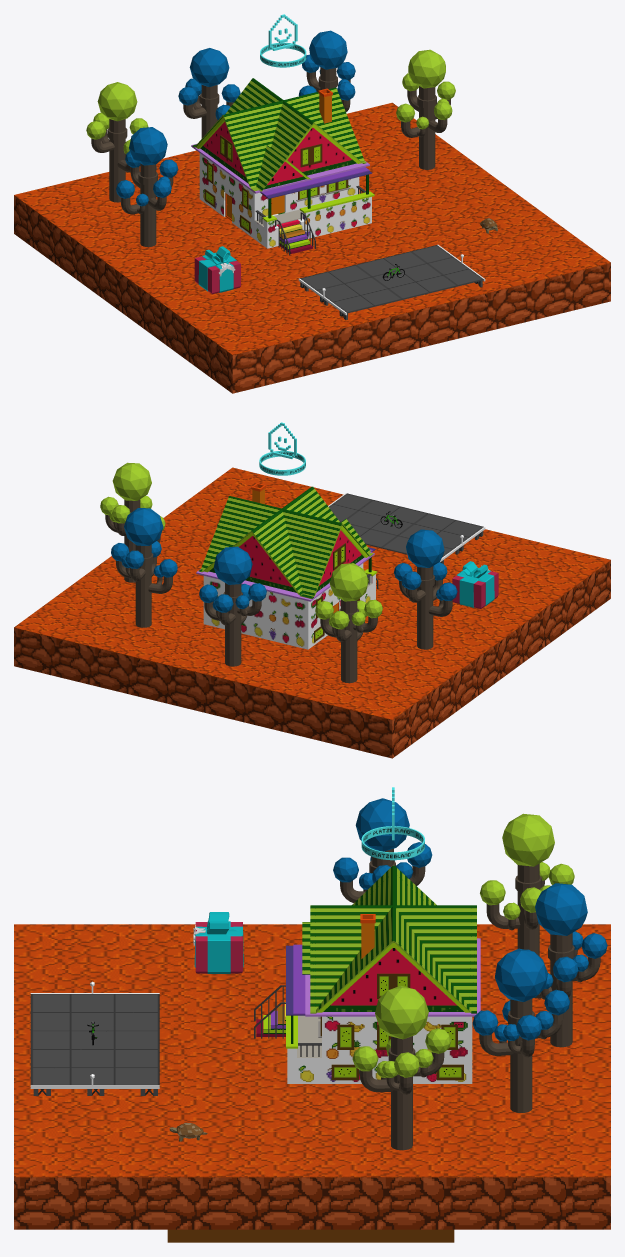
3 renders of one model, top to bottom at view 1: azimuth 30°, elevation 25°; view 2: azimuth 150°, elevation 25°; view 3: azimuth 270°, elevation 25°, orthographic. The views are drawn at different scales.
Parts seen in each view (by area): view 1: Cube.001, Cube.1063, OBJRANDOM_GIANT_PRESENT, TYPE_PREMIUM; view 2: Cube.001, Cube.1063, OBJRANDOM_GIANT_PRESENT, TYPE_PREMIUM; view 3: Cube.001, Cube.1063, UNDERGROUND_ART_PIECE_VAN_GOGH, OBJRANDOM_GIANT_PRESENT, TYPE_PREMIUM.
Part boxes in pixels (box(x1,y1,x2,y2)): Cube.001: box(14, 30, 610, 393); Cube.1063: box(191, 78, 374, 255); OBJRANDOM_GIANT_PRESENT: box(194, 246, 240, 294); TYPE_PREMIUM: box(260, 14, 306, 67); Cube.001: box(14, 462, 610, 758); Cube.1063: box(196, 483, 378, 649); OBJRANDOM_GIANT_PRESENT: box(452, 561, 498, 608); TYPE_PREMIUM: box(259, 422, 305, 475); Cube.001: box(14, 798, 610, 1229); Cube.1063: box(254, 865, 480, 1083); UNDERGROUND_ART_PIECE_VAN_GOGH: box(167, 1229, 454, 1242); OBJRANDOM_GIANT_PRESENT: box(193, 912, 243, 973); TYPE_PREMIUM: box(361, 787, 424, 860).
Bounding box in the file's own units: 4000 × 2536 × 4000.
35 materials, 8 textured.
